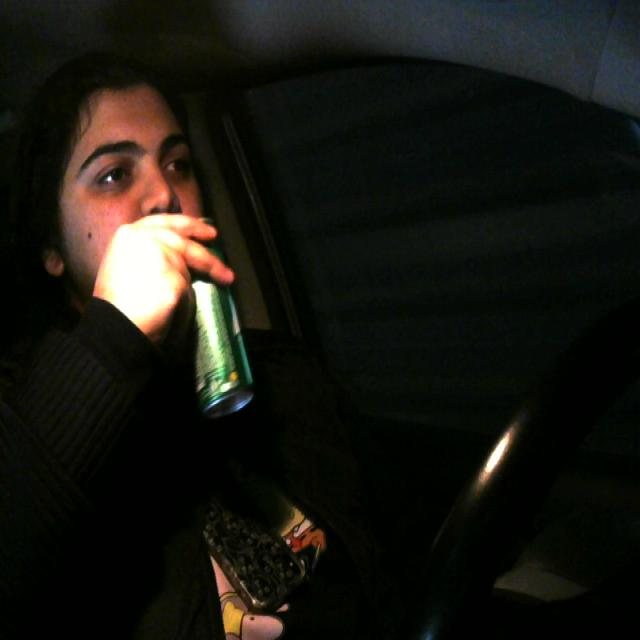drinking: (164, 222, 271, 428)
